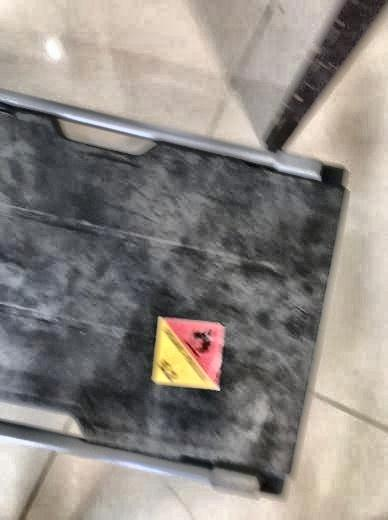organic-peroxide: (151, 317, 225, 392)
